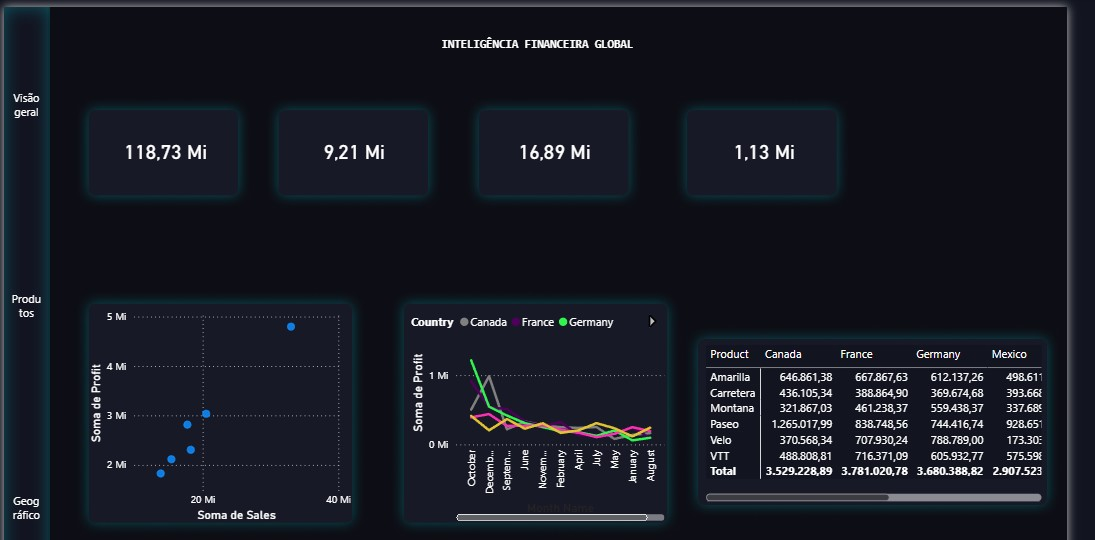

Layout of this report page (visuals, bound fields, positions):
{"tool":"powerbi","page":{"name":"Visão geral","canvas":[1280,720],"ordinal":0},"visuals":[{"type":"card","fields":{"Values":["Sum(financials.Sales)"]},"box":[97,121.3,194.1,104.2],"z":0},{"type":"card","fields":{"Values":["Sum(financials.Discounts)"]},"box":[335.3,127,174.1,94.2],"z":1000},{"type":"card","fields":{"Values":["Sum(financials.Profit)"]},"box":[570.8,121.3,184.1,104.2],"z":2000},{"type":"card","fields":{"Values":["Sum(financials.Units Sold)"]},"box":[817.7,117,195.5,114.2],"z":3000},{"type":"scatterChart","fields":{"Category":["financials.Product"],"X":["Sum(financials.Sales)"],"Y":["Sum(financials.Profit)"]},"box":[97,359.6,325.4,265.4],"z":4000},{"type":"pivotTable","fields":{"Rows":["financials.Product"],"Columns":["financials.Country"],"Values":["Sum(financials.Profit)"]},"box":[840.5,402.4,413.8,198.4],"z":5000},{"type":"lineChart","fields":{"Category":["financials.Month Name"],"Y":["Sum(financials.Profit)"],"Series":["financials.Country"]},"box":[485.2,359.6,315.4,265.4],"z":6000},{"type":"pageNavigator","box":[0,0,54.5,720],"z":7000},{"type":"textbox","box":[442.4,30.4,400.6,68.5],"z":7001}]}

Visuals, with their boxes on the page's 1280x720 design canvas (x1, y1, x2, y2). These are canvas units, not pixel positions in the 1095x540 screenshot, which may show the page scaled, cropped or inside an application window:
card - Sum(financials.Sales): {"x1": 97, "y1": 121, "x2": 291, "y2": 226}
card - Sum(financials.Discounts): {"x1": 335, "y1": 127, "x2": 509, "y2": 221}
card - Sum(financials.Profit): {"x1": 571, "y1": 121, "x2": 755, "y2": 226}
card - Sum(financials.Units Sold): {"x1": 818, "y1": 117, "x2": 1013, "y2": 231}
scatterChart - financials.Product x Sum(financials.Sales): {"x1": 97, "y1": 360, "x2": 422, "y2": 625}
pivotTable - financials.Product x financials.Country: {"x1": 840, "y1": 402, "x2": 1254, "y2": 601}
lineChart - financials.Month Name x Sum(financials.Profit): {"x1": 485, "y1": 360, "x2": 801, "y2": 625}
pageNavigator: {"x1": 0, "y1": 0, "x2": 54, "y2": 720}
textbox: {"x1": 442, "y1": 30, "x2": 843, "y2": 99}
